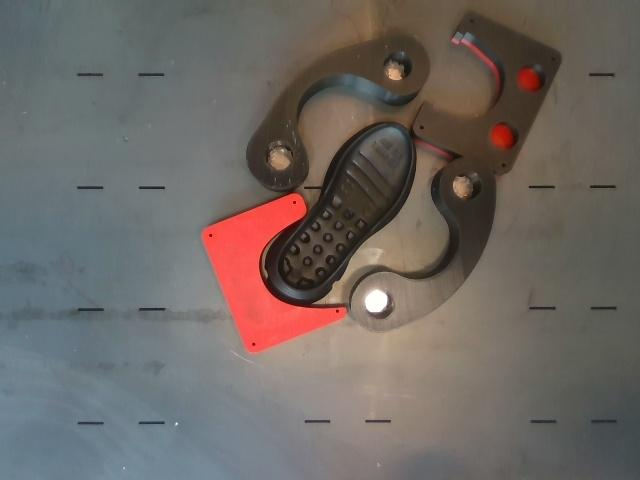shoes: (278, 124, 412, 290)
